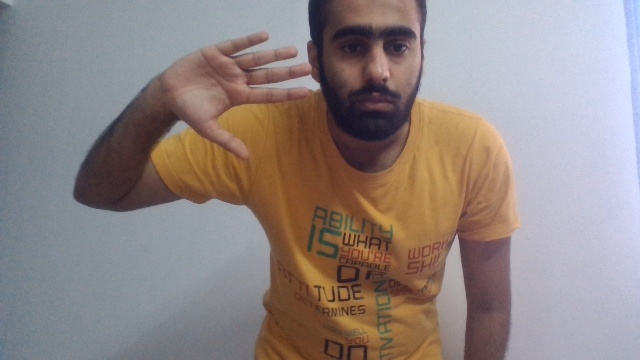paper: (163, 31, 312, 161)
